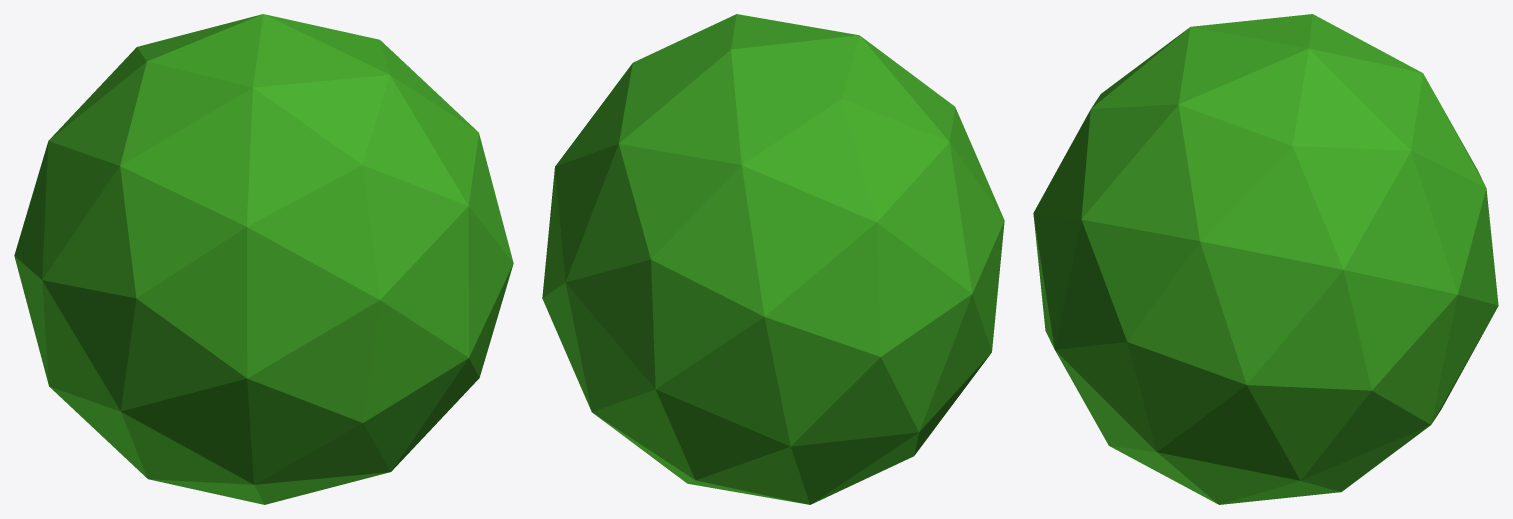
The picture shows the model from 3 angles, left to right: view 1: azimuth 30°, elevation 25°; view 2: azimuth 150°, elevation 25°; view 3: azimuth 270°, elevation 25°; orthographic projection.
Parts seen in each view (by area): view 1: Icosphere; view 2: Icosphere; view 3: Icosphere.
Boxes of the visible parts, x1=… form: Icosphere: x1=14, y1=14, x2=513, y2=504; Icosphere: x1=542, y1=14, x2=1004, y2=504; Icosphere: x1=1033, y1=14, x2=1498, y2=504.
Bounding box in the file's own units: 2.52 × 2.54 × 2.42.
